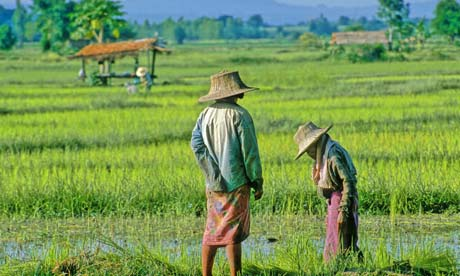human: (183, 67, 272, 276), (287, 117, 372, 276)
